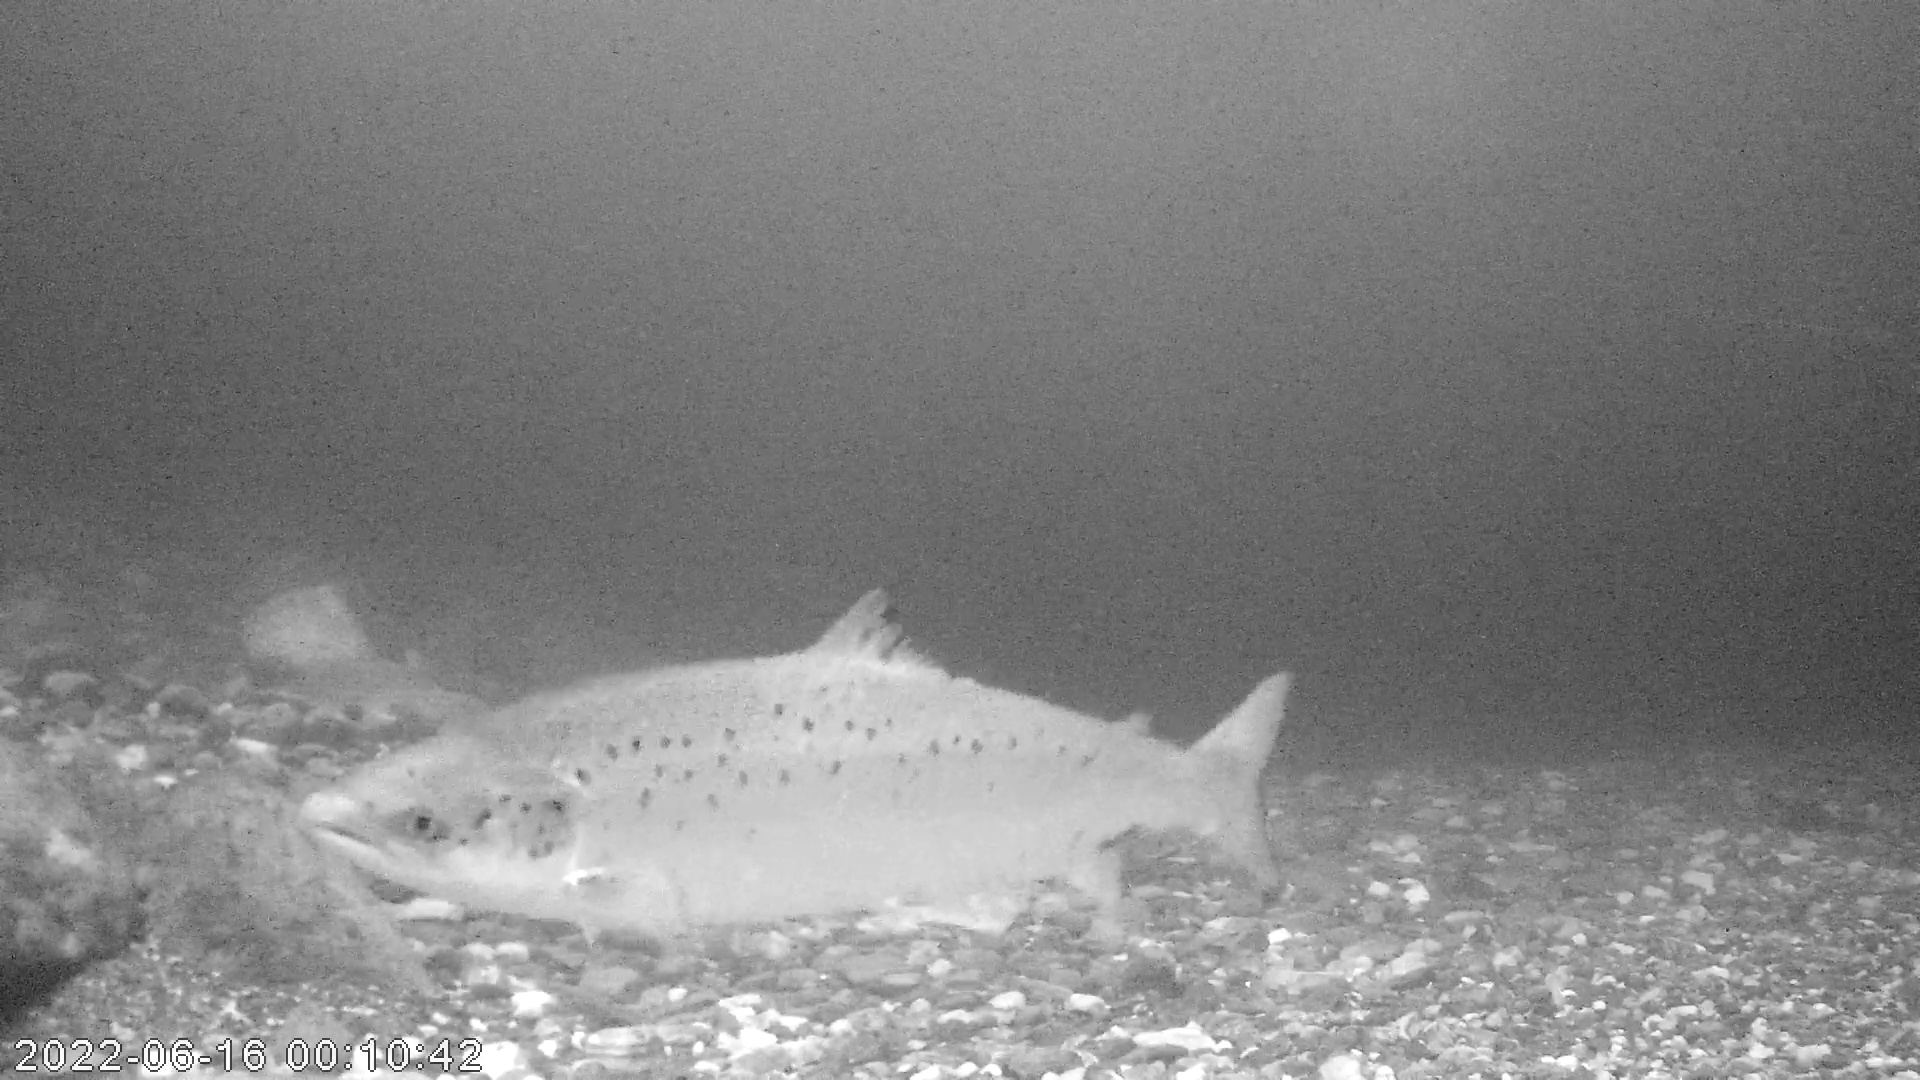salmon: (295, 584, 1290, 947)
